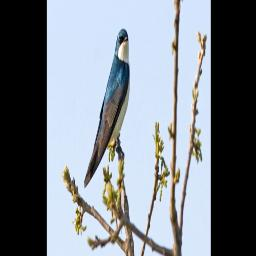Swallow: (82, 22, 133, 190)
